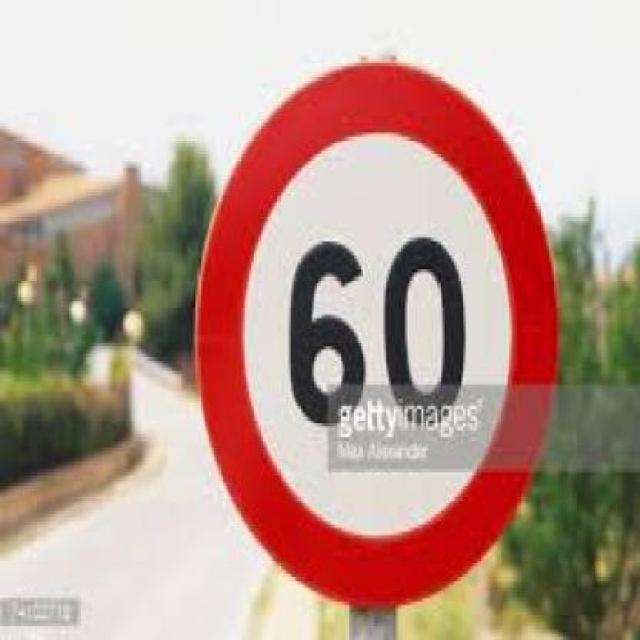forb_speed_over_60: (191, 66, 558, 602)
